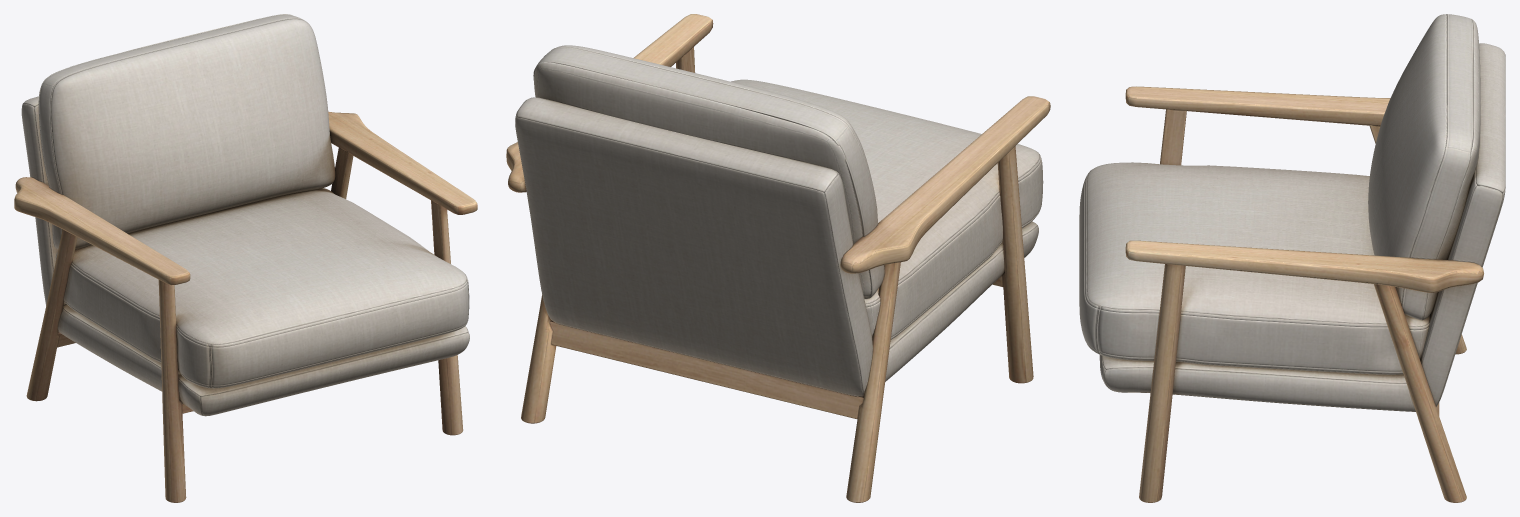
3 renders of one model, left to right at view 1: azimuth 30°, elevation 25°; view 2: azimuth 150°, elevation 25°; view 3: azimuth 270°, elevation 25°, orthographic. The views are drawn at different scales.
Parts seen in each view (by area): view 1: FABRIC; view 2: FABRIC; view 3: FABRIC.
Part boxes in pixels (box(x1,y1,x2,y2)): FABRIC: box(14, 14, 477, 502); FABRIC: box(506, 14, 1050, 502); FABRIC: box(1079, 14, 1505, 502).
Bounding box in the file's own units: 0.8027 × 0.7236 × 0.7881.
2 materials, 2 textured.
